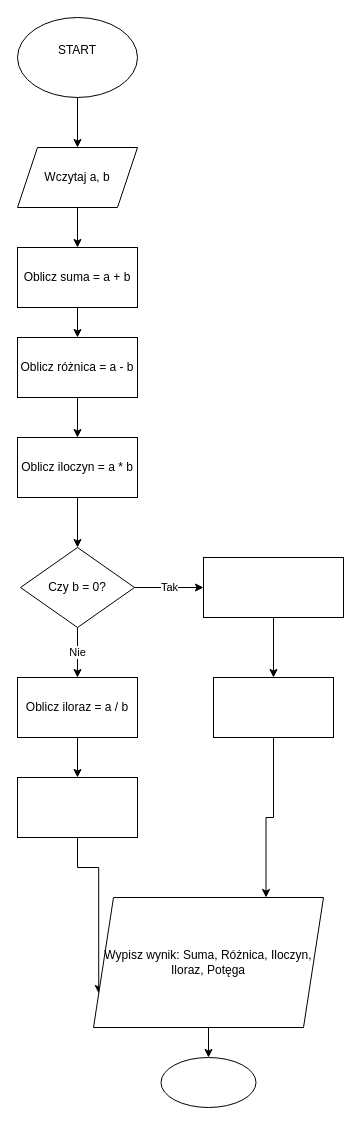
Some shapes in this 361 by 1125 pixel diagram are drawn without their labels. The centre of each missing label's shape, as x and y in pixels:
Oblicz potęga = a ^ b: (273,707)
Oblicz potęga a ^ b: (77,807)
STOP: (208,1082)
Wynik dzielenia = Błąd: (273,587)
